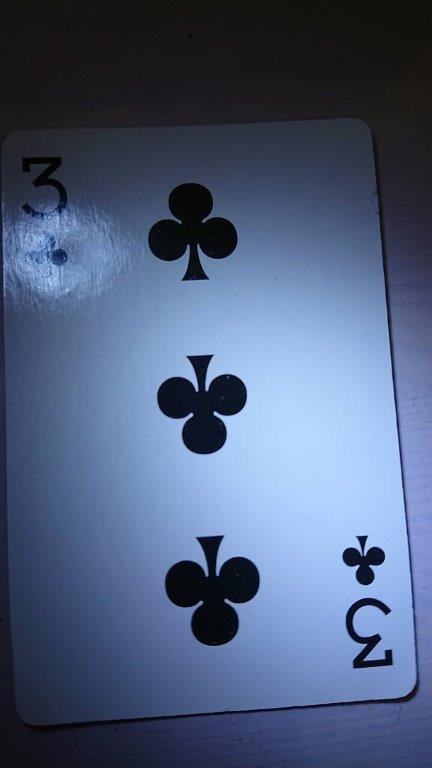3C: (1, 114, 420, 729)
